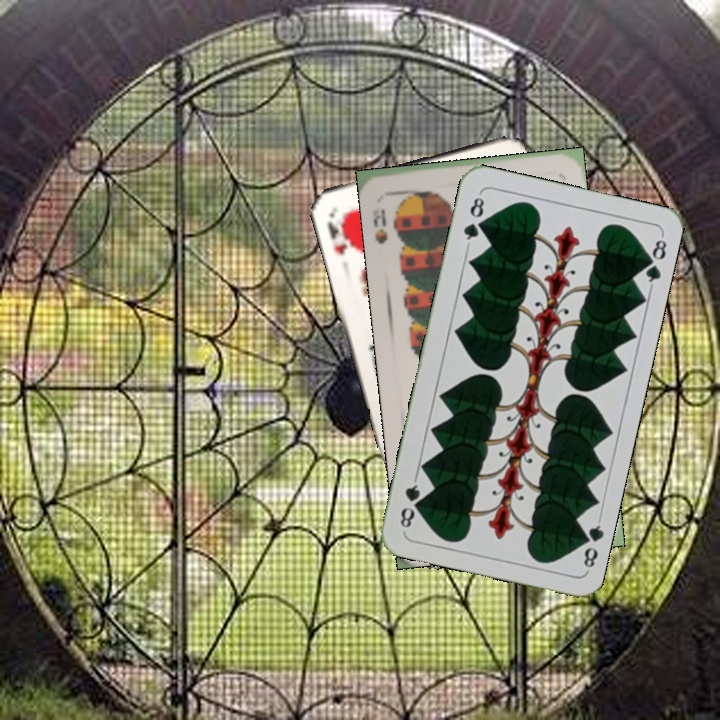G8: (574, 515, 606, 573), (459, 190, 487, 248)
HK: (323, 207, 355, 257)
S8: (368, 205, 390, 247)
